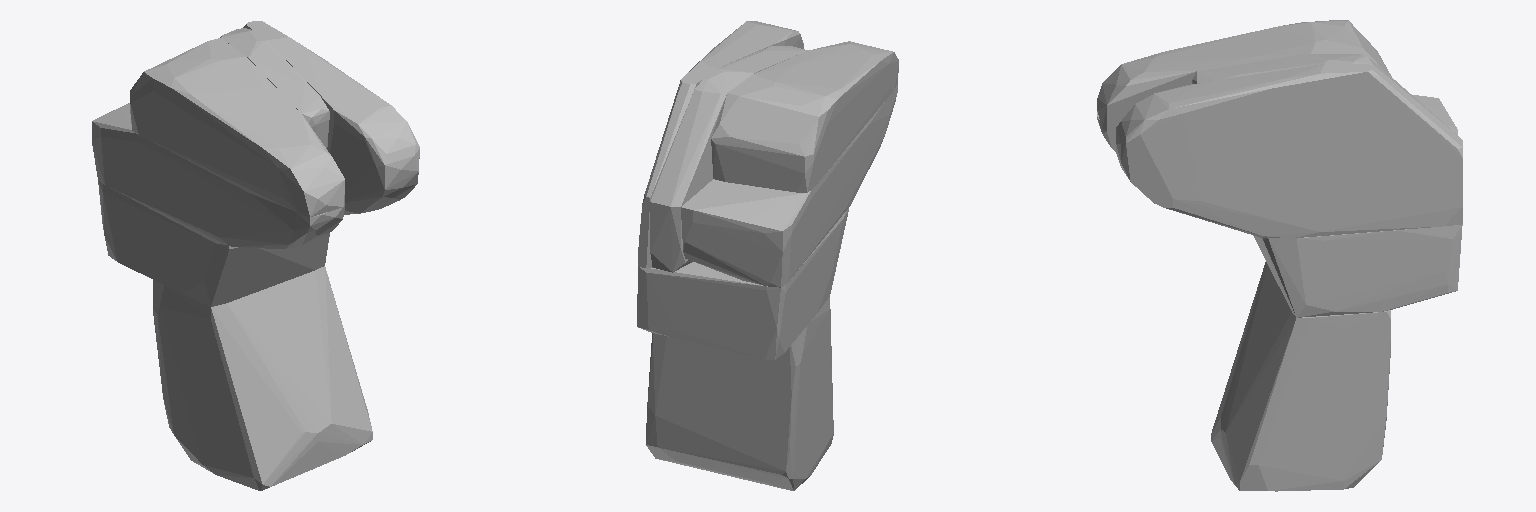
URDF robot description (root):
<robot name="root">
  <link name="link_part1_convex_piece_0">
    <inertial>
      <origin rpy="0 0 0" xyz="0 0 0"/>
      <mass value="-1.27E-05"/>
      <inertia ixx="-7.45E-09" ixy="-1.59E-10" ixz="6.69E-10" iyy="-7.72E-09" iyz="1.39E-09" izz="-1.34E-09"/>
    </inertial>
    <visual>
      <origin rpy="0 0 0" xyz="0 0 0"/>
      <geometry>
        <mesh filename="part1_convex_piece_0.obj" scale="1.0000E+00"/>
      </geometry>
      <material name="">
        <color rgba="7.50E-01 7.50E-01 7.50E-01 1"/>
      </material>
    </visual>
    <collision>
      <origin rpy="0 0 0" xyz="0 0 0"/>
      <geometry>
        <mesh filename="part1_convex_piece_0.obj" scale="1.0000E+00"/>
      </geometry>
    </collision>
  </link>
  <link name="link_part1_convex_piece_1">
    <inertial>
      <origin rpy="0 0 0" xyz="0 0 0"/>
      <mass value="-8.26E-06"/>
      <inertia ixx="-1.78E-09" ixy="1.81E-10" ixz="2.73E-11" iyy="-5.32E-10" iyz="-5.81E-11" izz="-2.29E-09"/>
    </inertial>
    <visual>
      <origin rpy="0 0 0" xyz="0 0 0"/>
      <geometry>
        <mesh filename="part1_convex_piece_1.obj" scale="1.0000E+00"/>
      </geometry>
      <material name="">
        <color rgba="7.50E-01 7.50E-01 7.50E-01 1"/>
      </material>
    </visual>
    <collision>
      <origin rpy="0 0 0" xyz="0 0 0"/>
      <geometry>
        <mesh filename="part1_convex_piece_1.obj" scale="1.0000E+00"/>
      </geometry>
    </collision>
  </link>
  <joint name="link_part1_convex_piece_1_joint" type="fixed">
    <origin rpy="0 0 0" xyz="0 0 0"/>
    <parent link="link_part1_convex_piece_0"/>
    <child link="link_part1_convex_piece_1"/>
  </joint>
  <link name="link_part1_convex_piece_2">
    <inertial>
      <origin rpy="0 0 0" xyz="0 0 0"/>
      <mass value="-6.51E-06"/>
      <inertia ixx="-3.28E-09" ixy="3.29E-10" ixz="8.05E-10" iyy="-2.31E-09" iyz="-2.92E-10" izz="-1.94E-09"/>
    </inertial>
    <visual>
      <origin rpy="0 0 0" xyz="0 0 0"/>
      <geometry>
        <mesh filename="part1_convex_piece_2.obj" scale="1.0000E+00"/>
      </geometry>
      <material name="">
        <color rgba="7.50E-01 7.50E-01 7.50E-01 1"/>
      </material>
    </visual>
    <collision>
      <origin rpy="0 0 0" xyz="0 0 0"/>
      <geometry>
        <mesh filename="part1_convex_piece_2.obj" scale="1.0000E+00"/>
      </geometry>
    </collision>
  </link>
  <joint name="link_part1_convex_piece_2_joint" type="fixed">
    <origin rpy="0 0 0" xyz="0 0 0"/>
    <parent link="link_part1_convex_piece_1"/>
    <child link="link_part1_convex_piece_2"/>
  </joint>
  <link name="link_part1_convex_piece_3">
    <inertial>
      <origin rpy="0 0 0" xyz="0 0 0"/>
      <mass value="-5.15E-06"/>
      <inertia ixx="-5.17E-09" ixy="-2.24E-11" ixz="1.08E-09" iyy="-4.82E-09" iyz="3.82E-10" izz="-1.07E-09"/>
    </inertial>
    <visual>
      <origin rpy="0 0 0" xyz="0 0 0"/>
      <geometry>
        <mesh filename="part1_convex_piece_3.obj" scale="1.0000E+00"/>
      </geometry>
      <material name="">
        <color rgba="7.50E-01 7.50E-01 7.50E-01 1"/>
      </material>
    </visual>
    <collision>
      <origin rpy="0 0 0" xyz="0 0 0"/>
      <geometry>
        <mesh filename="part1_convex_piece_3.obj" scale="1.0000E+00"/>
      </geometry>
    </collision>
  </link>
  <joint name="link_part1_convex_piece_3_joint" type="fixed">
    <origin rpy="0 0 0" xyz="0 0 0"/>
    <parent link="link_part1_convex_piece_2"/>
    <child link="link_part1_convex_piece_3"/>
  </joint>
  <link name="link_part1_convex_piece_4">
    <inertial>
      <origin rpy="0 0 0" xyz="0 0 0"/>
      <mass value="-4.05E-06"/>
      <inertia ixx="-2.97E-09" ixy="-8.86E-11" ixz="-2.60E-10" iyy="-2.33E-09" iyz="-5.08E-10" izz="-7.24E-10"/>
    </inertial>
    <visual>
      <origin rpy="0 0 0" xyz="0 0 0"/>
      <geometry>
        <mesh filename="part1_convex_piece_4.obj" scale="1.0000E+00"/>
      </geometry>
      <material name="">
        <color rgba="7.50E-01 7.50E-01 7.50E-01 1"/>
      </material>
    </visual>
    <collision>
      <origin rpy="0 0 0" xyz="0 0 0"/>
      <geometry>
        <mesh filename="part1_convex_piece_4.obj" scale="1.0000E+00"/>
      </geometry>
    </collision>
  </link>
  <joint name="link_part1_convex_piece_4_joint" type="fixed">
    <origin rpy="0 0 0" xyz="0 0 0"/>
    <parent link="link_part1_convex_piece_3"/>
    <child link="link_part1_convex_piece_4"/>
  </joint>
  <link name="link_part1_convex_piece_5">
    <inertial>
      <origin rpy="0 0 0" xyz="0 0 0"/>
      <mass value="-5.86E-06"/>
      <inertia ixx="-4.35E-09" ixy="2.32E-10" ixz="-1.31E-09" iyy="-3.92E-09" iyz="5.76E-10" izz="-1.57E-09"/>
    </inertial>
    <visual>
      <origin rpy="0 0 0" xyz="0 0 0"/>
      <geometry>
        <mesh filename="part1_convex_piece_5.obj" scale="1.0000E+00"/>
      </geometry>
      <material name="">
        <color rgba="7.50E-01 7.50E-01 7.50E-01 1"/>
      </material>
    </visual>
    <collision>
      <origin rpy="0 0 0" xyz="0 0 0"/>
      <geometry>
        <mesh filename="part1_convex_piece_5.obj" scale="1.0000E+00"/>
      </geometry>
    </collision>
  </link>
  <joint name="link_part1_convex_piece_5_joint" type="fixed">
    <origin rpy="0 0 0" xyz="0 0 0"/>
    <parent link="link_part1_convex_piece_4"/>
    <child link="link_part1_convex_piece_5"/>
  </joint>
</robot>

--- Render facts (derived) ---
The picture shows the robot from 3 angles, left to right: view 1: azimuth 30°, elevation 25°; view 2: azimuth 150°, elevation 25°; view 3: azimuth 270°, elevation 25°; orthographic projection.
Model root with 6 links and 5 joints (5 fixed), rooted at link_part1_convex_piece_0, posed every joint at zero.
Links seen in each view (by area): view 1: link_part1_convex_piece_0, link_part1_convex_piece_3, link_part1_convex_piece_2, link_part1_convex_piece_1, link_part1_convex_piece_5, link_part1_convex_piece_4; view 2: link_part1_convex_piece_0, link_part1_convex_piece_3, link_part1_convex_piece_2, link_part1_convex_piece_1, link_part1_convex_piece_4, link_part1_convex_piece_5; view 3: link_part1_convex_piece_5, link_part1_convex_piece_0, link_part1_convex_piece_1, link_part1_convex_piece_3, link_part1_convex_piece_4, link_part1_convex_piece_2.
Link boxes in pixels (x1=…): link_part1_convex_piece_0: x1=153, y1=266, x2=372, y2=490; link_part1_convex_piece_3: x1=130, y1=38, x2=344, y2=216; link_part1_convex_piece_2: x1=92, y1=103, x2=344, y2=248; link_part1_convex_piece_1: x1=98, y1=181, x2=329, y2=306; link_part1_convex_piece_5: x1=243, y1=21, x2=419, y2=214; link_part1_convex_piece_4: x1=220, y1=28, x2=329, y2=148; link_part1_convex_piece_0: x1=646, y1=297, x2=833, y2=490; link_part1_convex_piece_3: x1=711, y1=41, x2=898, y2=192; link_part1_convex_piece_2: x1=681, y1=84, x2=897, y2=287; link_part1_convex_piece_1: x1=637, y1=208, x2=848, y2=359; link_part1_convex_piece_4: x1=650, y1=46, x2=807, y2=272; link_part1_convex_piece_5: x1=638, y1=21, x2=803, y2=267; link_part1_convex_piece_5: x1=1116, y1=64, x2=1462, y2=237; link_part1_convex_piece_0: x1=1211, y1=262, x2=1390, y2=491; link_part1_convex_piece_1: x1=1253, y1=224, x2=1462, y2=317; link_part1_convex_piece_3: x1=1097, y1=20, x2=1391, y2=130; link_part1_convex_piece_4: x1=1192, y1=54, x2=1462, y2=144; link_part1_convex_piece_2: x1=1097, y1=94, x2=1457, y2=151.
Bounding box of the posed robot: 0.0371 × 0.0621 × 0.0775 m (x, y, z).
Meshes: 6 distinct files referenced, 6 mesh visuals loaded (6 OBJ).